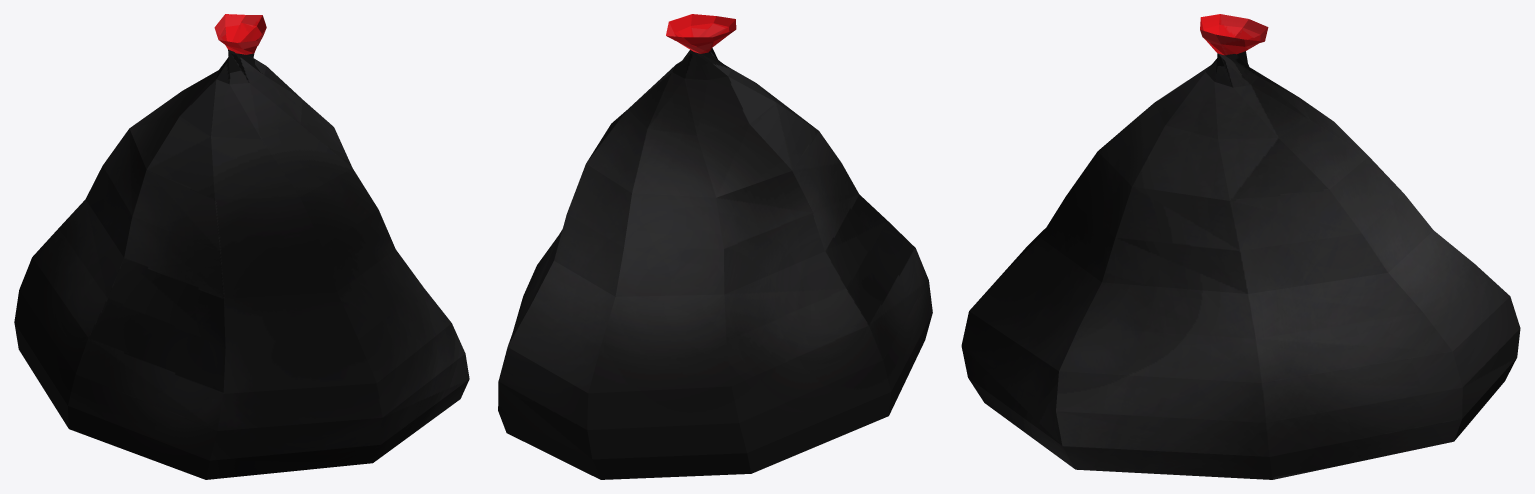
File: garbage_bag_clean.fbx
3 views of the same model, side by side, from view 1: azimuth 30°, elevation 25°; view 2: azimuth 150°, elevation 25°; view 3: azimuth 270°, elevation 25° (orthographic). The views are drawn at different scales.
Visible parts, largest first — view 1: Cube; view 2: Cube; view 3: Cube.
Boxes of the visible parts, left/top/right/bottom form: Cube: left=14, top=14, right=469, bottom=479; Cube: left=498, top=14, right=932, bottom=479; Cube: left=961, top=14, right=1520, bottom=479.
Size of the model in its own units: 46.5 by 47.52 by 61.45.
Materials: 1 (1 with a texture image).
